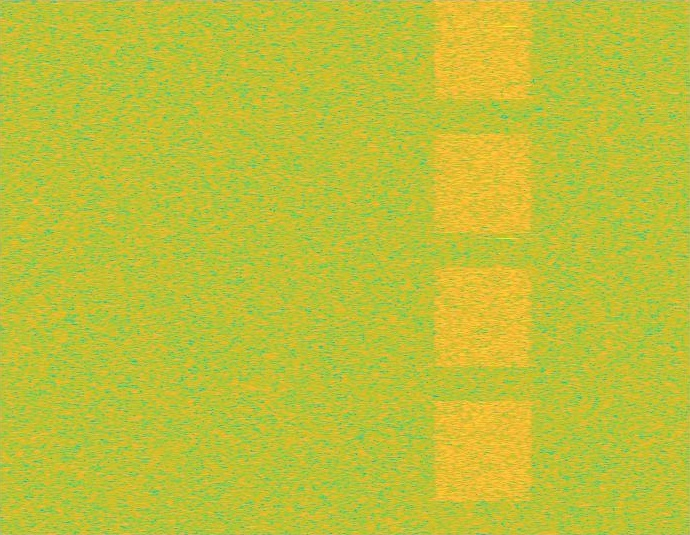5G: (431, 0, 535, 534)
Radar: (501, 0, 515, 534)
